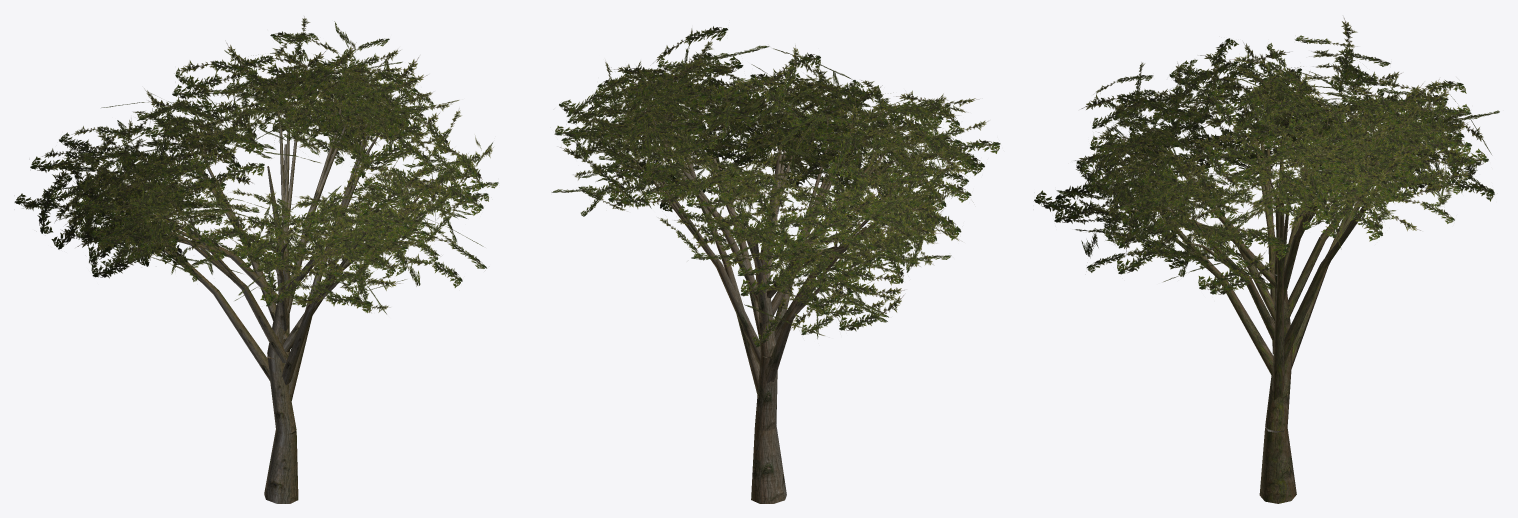
The model's file is garda_broadleaf.glb.
3 renders of one model, left to right at view 1: azimuth 30°, elevation 25°; view 2: azimuth 150°, elevation 25°; view 3: azimuth 270°, elevation 25°, orthographic. The views are drawn at different scales.
Parts seen in each view (by area): view 1: GardaTree_LOD0; view 2: GardaTree_LOD0; view 3: GardaTree_LOD0.
Boxes of the visible parts, x1,y1,x2,y2 form: GardaTree_LOD0: (14,16,498,503); GardaTree_LOD0: (551,26,1000,503); GardaTree_LOD0: (1034,18,1499,503).
Size of what is drawn, in the model's own units: 11.69 by 12.44 by 12.13.
Materials: 1 (1 with a texture image).
